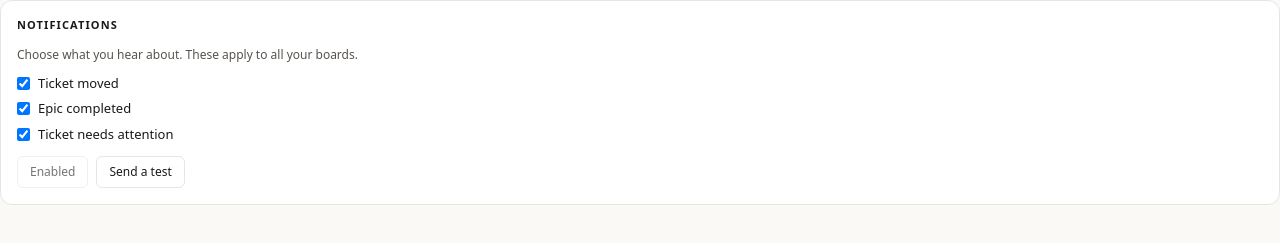
Test: NotificationsSection › with a subscription the browser already has › sends a test and says so
Click the button "Send a test" at [141, 172], box [96,156,185,188]
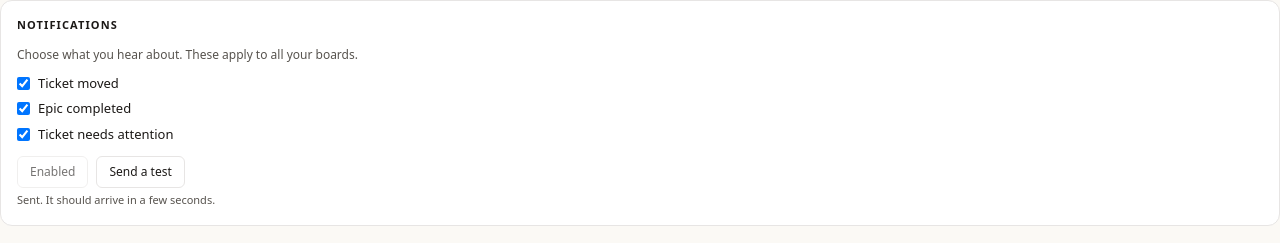
Now the text "Sent. It should arrive in a few seconds." is shown, box [17,192,215,207]
